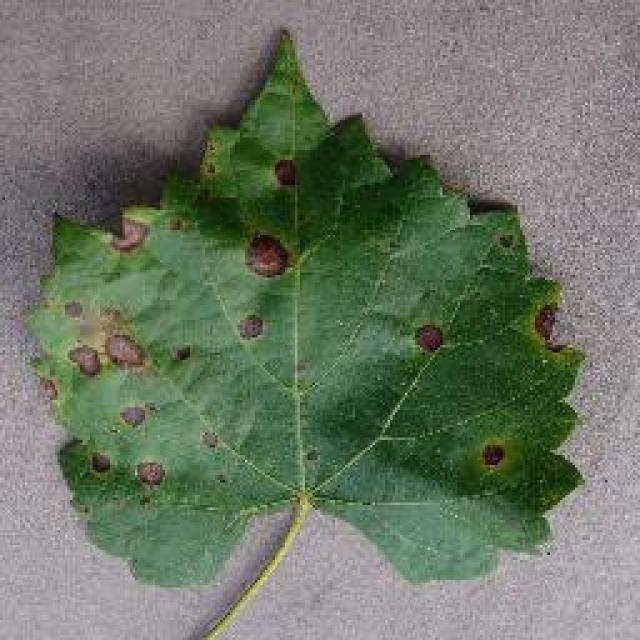Grape___Black_rot: (7, 24, 591, 592)
